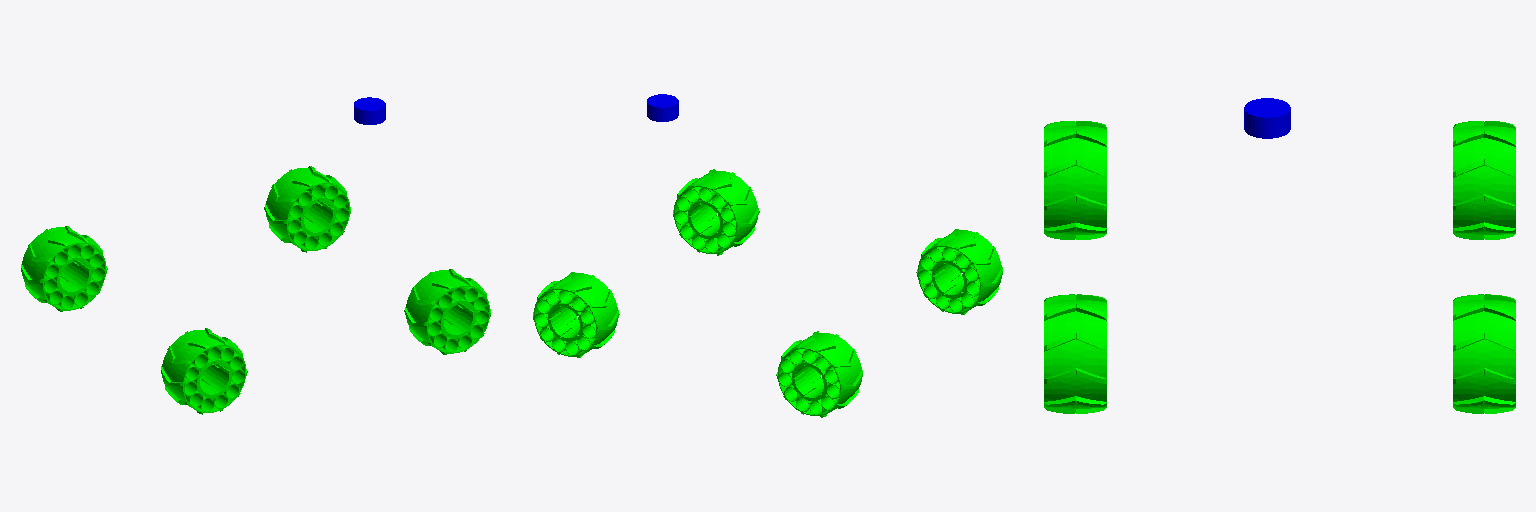
URDF robot description (rover30):
<?xml version="1.0" ?>
<!-- =================================================================================== -->
<!-- |    This document was autogenerated by xacro from rover30.urdf.xacro             | -->
<!-- |    EDITING THIS FILE BY HAND IS NOT RECOMMENDED                                 | -->
<!-- =================================================================================== -->
<robot name="rover30">
  <link name="base_footprint"/>
  <link name="base_link">
    <visual>
      <origin rpy="0 0 0" xyz="0 0 5"/>
      <geometry>
        <mesh filename="package://rover30_description/meshes/rover_body.stl"/>
      </geometry>
    </visual>
    <collision>
      <origin rpy="0 0 0" xyz="0 0 5"/>
      <geometry>
        <mesh filename="package://rover30_description/meshes/rover_body.stl"/>
      </geometry>
    </collision>
    <inertial>
      <origin rpy="0 0 0" xyz="0 0 5"/>
      <mass value="20.0"/>
      <inertia ixx="1.0" ixy="1.0" ixz="1.0" iyy="1.0" iyz="1.0" izz="1.0"/>
    </inertial>
  </link>
  <link name="right_front_wheel">
    <visual>
      <origin rpy="0 0 0" xyz="6.25 -4.1 -1.5"/>
      <geometry>
        <mesh filename="package://rover30_description/meshes/kolo.stl" scale="2.0 2.0 2.0"/>
      </geometry>
      <material name="green">
        <color rgba="0.0 1.0 0.0 1.0"/>
      </material>
    </visual>
    <collision>
      <origin rpy="0 0 0" xyz="6.25 -4.1 -1.5"/>
      <geometry>
        <mesh filename="package://rover30_description/meshes/kolo.stl" scale="2.0 2.0 2.0"/>
      </geometry>
    </collision>
    <inertial>
      <origin rpy="0 0 0" xyz="6.25 -4.1 -1.5"/>
      <mass value="2.0"/>
      <inertia ixx="0.01" ixy="0.0" ixz="0.0" iyy="0.01" iyz="0.0" izz="0.01"/>
    </inertial>
  </link>
  <link name="left_front_wheel">
    <visual>
      <origin rpy="0 0 0" xyz="6.25 4.7 -1.5"/>
      <geometry>
        <mesh filename="package://rover30_description/meshes/kolo.stl" scale="2.0 2.0 2.0"/>
      </geometry>
      <material name="green">
        <color rgba="0.0 1.0 0.0 1.0"/>
      </material>
    </visual>
    <collision>
      <origin rpy="0 0 0" xyz="6.25 4.7 -1.5"/>
      <geometry>
        <mesh filename="package://rover30_description/meshes/kolo.stl" scale="2.0 2.0 2.0"/>
      </geometry>
    </collision>
    <inertial>
      <origin rpy="0 0 0" xyz="6.25 4.7 -1.5"/>
      <mass value="2.0"/>
      <inertia ixx="0.01" ixy="0.0" ixz="0.0" iyy="0.01" iyz="0.0" izz="0.01"/>
    </inertial>
  </link>
  <link name="right_rear_wheel">
    <visual>
      <origin rpy="0 0 0" xyz="-2.6 -4.1 -1.5"/>
      <geometry>
        <mesh filename="package://rover30_description/meshes/kolo.stl" scale="2.0 2.0 2.0"/>
      </geometry>
      <material name="green">
        <color rgba="0.0 1.0 0.0 1.0"/>
      </material>
    </visual>
    <collision>
      <origin rpy="0 0 0" xyz="-2.6 -4.1 -1.5"/>
      <geometry>
        <mesh filename="package://rover30_description/meshes/kolo.stl" scale="2.0 2.0 2.0"/>
      </geometry>
    </collision>
    <inertial>
      <origin rpy="0 0 0" xyz="-2.6 -4.1 -1.5"/>
      <mass value="2.0"/>
      <inertia ixx="0.01" ixy="0.0" ixz="0.0" iyy="0.01" iyz="0.0" izz="0.01"/>
    </inertial>
  </link>
  <link name="left_rear_wheel">
    <visual>
      <origin rpy="0 0 0" xyz="-2.6 4.7 -1.5"/>
      <geometry>
        <mesh filename="package://rover30_description/meshes/kolo.stl" scale="2.0 2.0 2.0"/>
      </geometry>
      <material name="green">
        <color rgba="0.0 1.0 0.0 1.0"/>
      </material>
    </visual>
    <collision>
      <origin rpy="0 0 0" xyz="-2.6 4.7 -1.5"/>
      <geometry>
        <mesh filename="package://rover30_description/meshes/kolo.stl" scale="2.0 2.0 2.0"/>
      </geometry>
    </collision>
    <inertial>
      <origin rpy="0 0 0" xyz="-2.6 4.7 -1.5"/>
      <mass value="2.0"/>
      <inertia ixx="0.01" ixy="0.0" ixz="0.0" iyy="0.01" iyz="0.0" izz="0.01"/>
    </inertial>
  </link>
  <joint name="base_joint" type="fixed">
    <parent link="base_footprint"/>
    <child link="base_link"/>
    <origin rpy="0 0 0" xyz="0 0 5.033"/>
  </joint>
  <joint name="rfw" type="fixed">
    <parent link="base_link"/>
    <child link="right_front_wheel"/>
    <origin rpy="0 0 0" xyz="6.25 -4.1 3.5"/>
  </joint>
  <joint name="lfw" type="fixed">
    <parent link="base_link"/>
    <child link="left_front_wheel"/>
    <origin rpy="0 0 0" xyz="6.25 4.7 3.5"/>
  </joint>
  <joint name="rrw" type="fixed">
    <parent link="base_link"/>
    <child link="right_rear_wheel"/>
    <origin rpy="0 0 0" xyz="-2.6 -4.1 3.5"/>
  </joint>
  <joint name="lrw" type="fixed">
    <parent link="base_link"/>
    <child link="left_rear_wheel"/>
    <origin rpy="0 0 0" xyz="-2.6 4.7 3.5"/>
  </joint>
  <joint name="laser_joint" type="fixed">
    <parent link="base_link"/>
    <child link="laser_frame"/>
    <origin rpy="0 0 0" xyz="11 0 15"/>
  </joint>
  <link name="laser_frame">
    <visual>
      <geometry>
        <cylinder length="1.00" radius="1.0"/>
      </geometry>
      <material name="blue">
        <color rgba="0.0 0.0 1.0 1.0"/>
      </material>
    </visual>
    <collision>
      <geometry>
        <cylinder length="1.00" radius="1.0"/>
      </geometry>
    </collision>
    <inertial>
      <origin rpy="0 0 0" xyz="11 0 15"/>
      <mass value="0.1"/>
      <inertia ixx="0.03333333333333333" ixy="0.0" ixz="0.0" iyy="0.03333333333333333" iyz="0.0" izz="0.05"/>
    </inertial>
  </link>
  <gazebo reference="laser_frame">
    <material>Gazebo/Red</material>
    <sensor name="laser" type="ray">
      <pose> 0 0 0 0 0 0 </pose>
      <visualize>true</visualize>
      <update_rate>10</update_rate>
      <ray>
        <scan>
          <horizontal>
            <samples>360</samples>
            <min_angle>-3.14</min_angle>
            <max_angle>3.14</max_angle>
          </horizontal>
        </scan>
        <range>
          <min>0.3</min>
          <max>25</max>
        </range>
      </ray>
      <plugin filename="libgazebo_ros_ray_sensor.so" name="laser_controller">
        <ros>
          <argument>~/out:=scan</argument>
        </ros>
        <output_type>sensor_msgs/LaserScan</output_type>
        <frame_name>laser_frame</frame_name>
      </plugin>
    </sensor>
  </gazebo>
</robot>

--- Render facts (derived) ---
3 views of the same robot in one strip: view 1: azimuth 30°, elevation 25°; view 2: azimuth 150°, elevation 25°; view 3: azimuth 270°, elevation 25° (orthographic).
Model rover30 with 7 links and 6 joints (6 fixed), rooted at base_footprint, posed every joint at zero.
Links seen in each view (by area): view 1: left_rear_wheel, right_front_wheel, left_front_wheel, right_rear_wheel, laser_frame; view 2: left_front_wheel, right_rear_wheel, right_front_wheel, left_rear_wheel, laser_frame; view 3: left_front_wheel, right_front_wheel, right_rear_wheel, left_rear_wheel, laser_frame.
Link boxes in pixels (x1,y1,x2,y2): left_rear_wheel: (21,226,107,311); right_front_wheel: (404,269,490,354); left_front_wheel: (264,166,350,252); right_rear_wheel: (161,328,247,414); laser_frame: (354,97,385,124); left_front_wheel: (533,272,619,357); right_rear_wheel: (916,229,1002,314); right_front_wheel: (673,169,759,255); left_rear_wheel: (776,331,862,417); laser_frame: (647,94,678,121); left_front_wheel: (1453,294,1515,413); right_front_wheel: (1044,294,1106,413); right_rear_wheel: (1044,121,1106,239); left_rear_wheel: (1453,121,1515,239); laser_frame: (1244,98,1290,138).
Bounding box of the posed robot: 22.84 × 20.28 × 13.82 m (x, y, z).
Meshes: 2 distinct files referenced, 4 mesh visuals loaded (1 binary STL); not drawn: 1 (reference not matched to a file when rendering).
